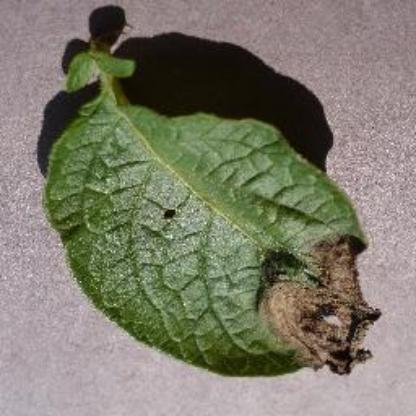Late-Blight: (39, 56, 375, 397)
